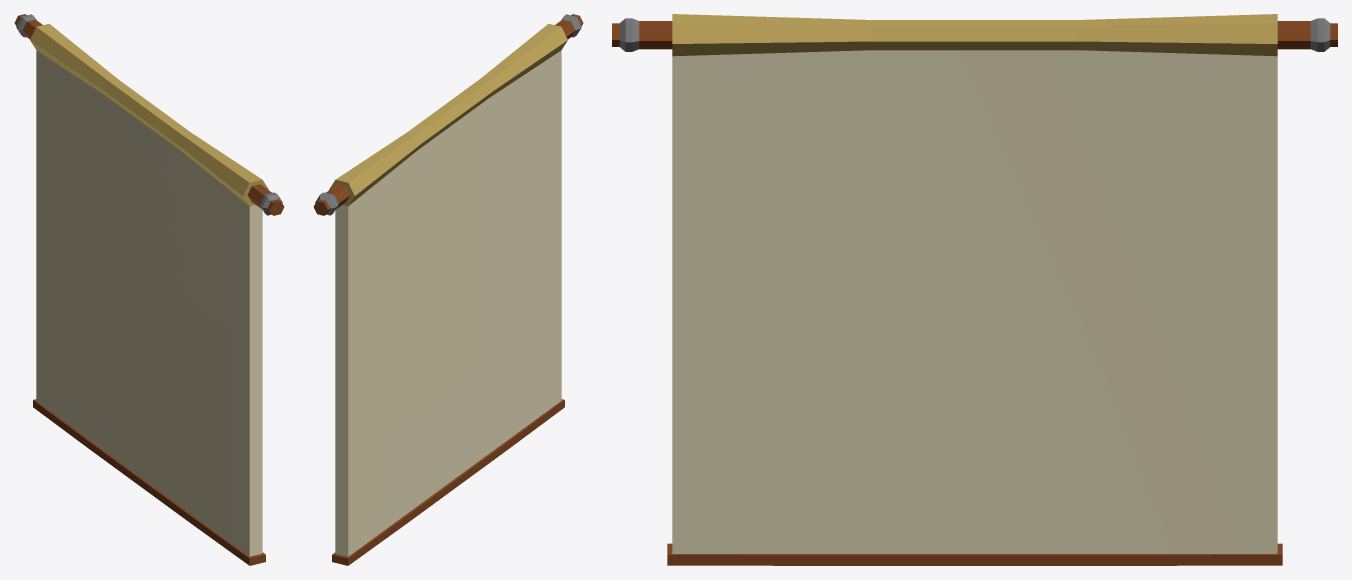
Rendered from Hanging Scroll 1.fbx.
3 views of the same model, side by side, from view 1: azimuth 30°, elevation 25°; view 2: azimuth 150°, elevation 25°; view 3: azimuth 270°, elevation 25° (orthographic). The views are drawn at different scales.
Parts seen in each view (by area): view 1: Hanging Scroll 1; view 2: Hanging Scroll 1; view 3: Hanging Scroll 1.
Boxes of the visible parts, x1=… form: Hanging Scroll 1: x1=14, y1=14, x2=284, y2=565; Hanging Scroll 1: x1=313, y1=14, x2=583, y2=565; Hanging Scroll 1: x1=612, y1=14, x2=1337, y2=565.
Bounding box in the file's own units: 0.4145 × 5.84 × 7.09.
